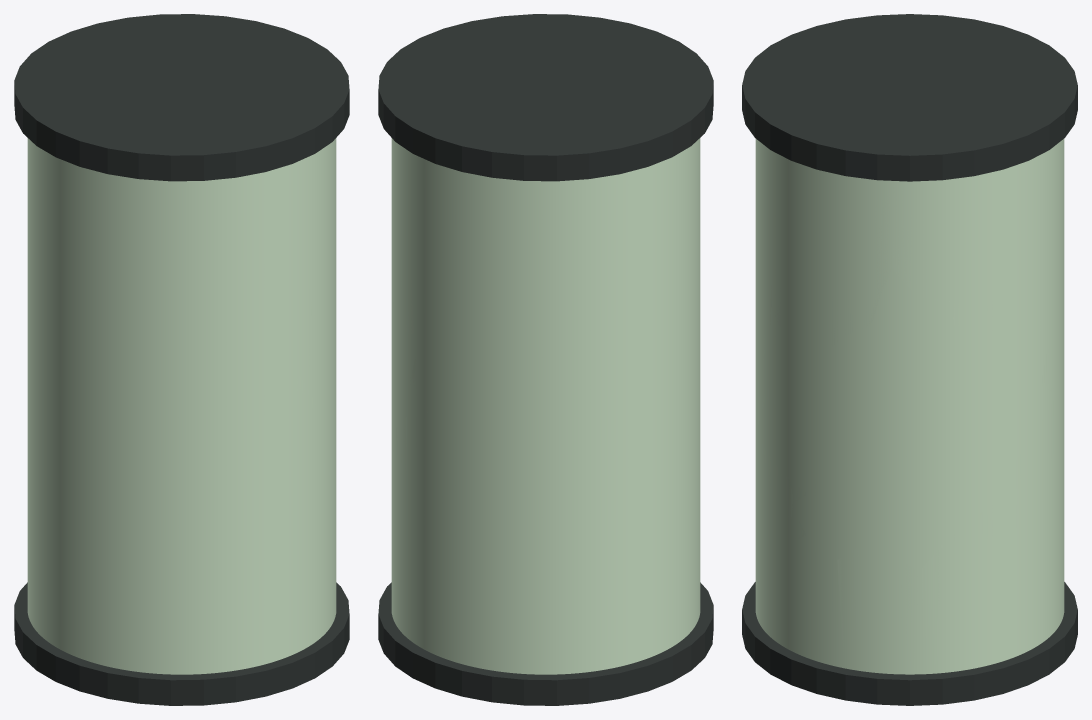
File: cilindro_quebravel.fbx
3 renders of one model, left to right at view 1: azimuth 30°, elevation 25°; view 2: azimuth 150°, elevation 25°; view 3: azimuth 270°, elevation 25°, orthographic.
Visible parts, largest first — view 1: vidrao, topo, base, vidrao_quebrado; view 2: vidrao, topo, base, vidrao_quebrado; view 3: vidrao, topo, vidrao_quebrado, base.
Boxes of the visible parts, x1,y1,x2,y2 form: vidrao: (27,138,336,674); topo: (14,14,349,181); base: (14,582,349,705); vidrao_quebrado: (278,243,336,630); vidrao: (391,138,700,674); topo: (378,14,713,181); base: (378,582,713,705); vidrao_quebrado: (391,242,433,625); vidrao: (755,139,1064,674); topo: (742,14,1077,181); vidrao_quebrado: (758,180,1056,674); base: (742,582,1077,705).
Size of the model in its own units: 216 by 391 by 216.
